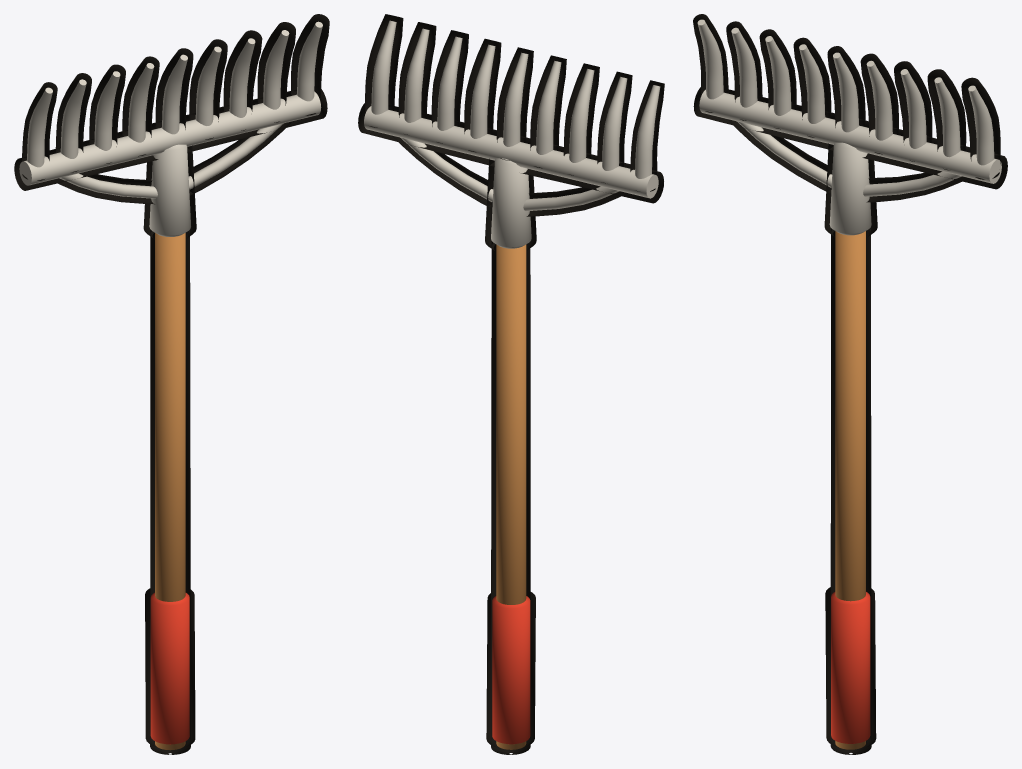
Rendered from rake.glb.
3 views of the same model, side by side, from view 1: azimuth 30°, elevation 25°; view 2: azimuth 150°, elevation 25°; view 3: azimuth 330°, elevation 25° (orthographic). The views are drawn at different scales.
Visible parts, largest first — view 1: Rake, Rake_outline; view 2: Rake, Rake_outline; view 3: Rake, Rake_outline.
Part boxes in pixels (box(x1,y1,x2,y2)): Rake: box(19, 21, 322, 750); Rake_outline: box(14, 14, 329, 754); Rake: box(364, 20, 660, 749); Rake_outline: box(358, 14, 664, 754); Rake: box(697, 19, 1001, 749); Rake_outline: box(693, 14, 1007, 754).
Size of the model in its own units: 1.23 by 2.84 by 0.2383.
